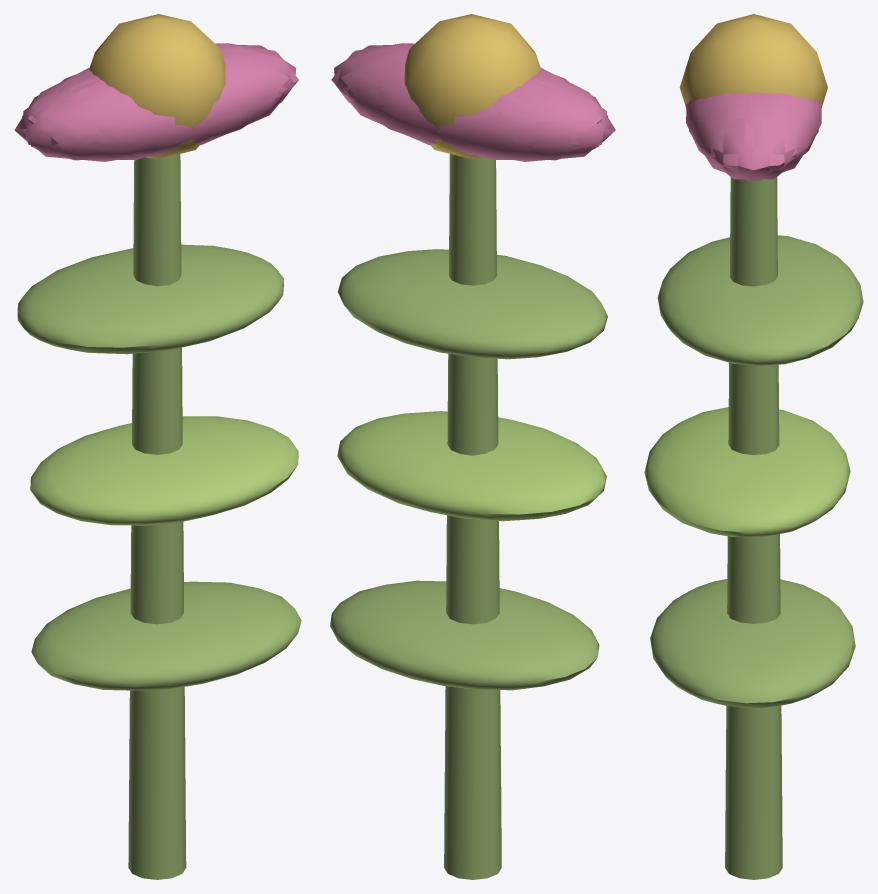
Rendered from symplocos-cochinchinensis.glb.
3 renders of one model, left to right at view 1: azimuth 30°, elevation 25°; view 2: azimuth 150°, elevation 25°; view 3: azimuth 270°, elevation 25°, orthographic.
Visible parts, largest first — view 1: stem, leaf1, leaf2, leaf0, center, petal6, petal2, petal1, petal5, petal7, petal0; view 2: stem, leaf2, leaf0, leaf1, center, petal3, petal7, petal8, petal4, petal2, petal0; view 3: stem, leaf1, leaf0, leaf2, center, petal0, petal5, petal4, petal8, petal1.
Part boxes in pixels (x1=…): stem: x1=128, y1=154, x2=186, y2=879; leaf1: x1=30, y1=416, x2=298, y2=525; leaf2: x1=17, y1=244, x2=283, y2=354; leaf0: x1=31, y1=581, x2=301, y2=690; center: x1=89, y1=14, x2=225, y2=159; petal6: x1=30, y1=80, x2=212, y2=160; petal2: x1=23, y1=75, x2=163, y2=161; petal1: x1=94, y1=60, x2=282, y2=158; petal5: x1=152, y1=51, x2=298, y2=150; petal7: x1=14, y1=70, x2=106, y2=153; petal0: x1=219, y1=45, x2=296, y2=135; stem: x1=444, y1=154, x2=501, y2=879; leaf2: x1=337, y1=249, x2=607, y2=359; leaf0: x1=330, y1=580, x2=599, y2=690; leaf1: x1=337, y1=411, x2=606, y2=521; center: x1=404, y1=14, x2=540, y2=159; petal3: x1=417, y1=80, x2=599, y2=160; petal7: x1=466, y1=75, x2=606, y2=161; petal8: x1=347, y1=60, x2=535, y2=158; petal4: x1=331, y1=51, x2=477, y2=151; petal2: x1=523, y1=70, x2=615, y2=153; petal0: x1=334, y1=45, x2=410, y2=118; stem: x1=725, y1=177, x2=782, y2=879; leaf1: x1=644, y1=407, x2=850, y2=537; leaf0: x1=650, y1=579, x2=855, y2=707; leaf2: x1=657, y1=235, x2=863, y2=365; center: x1=679, y1=14, x2=827, y2=105; petal0: x1=699, y1=92, x2=808, y2=179; petal5: x1=689, y1=93, x2=764, y2=181; petal4: x1=742, y1=93, x2=818, y2=181; petal8: x1=775, y1=93, x2=821, y2=155; petal1: x1=686, y1=93, x2=732, y2=155.
Size of the model in its own units: 0.1541 by 0.4537 by 0.1063.
